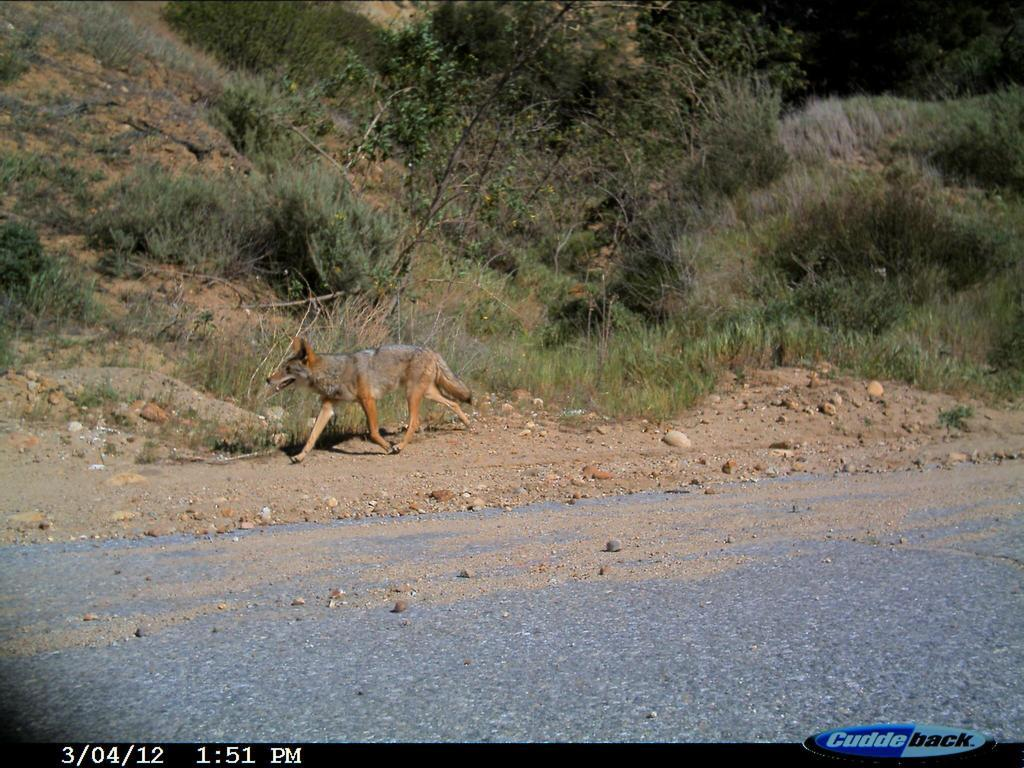coyote: (262, 324, 501, 460)
